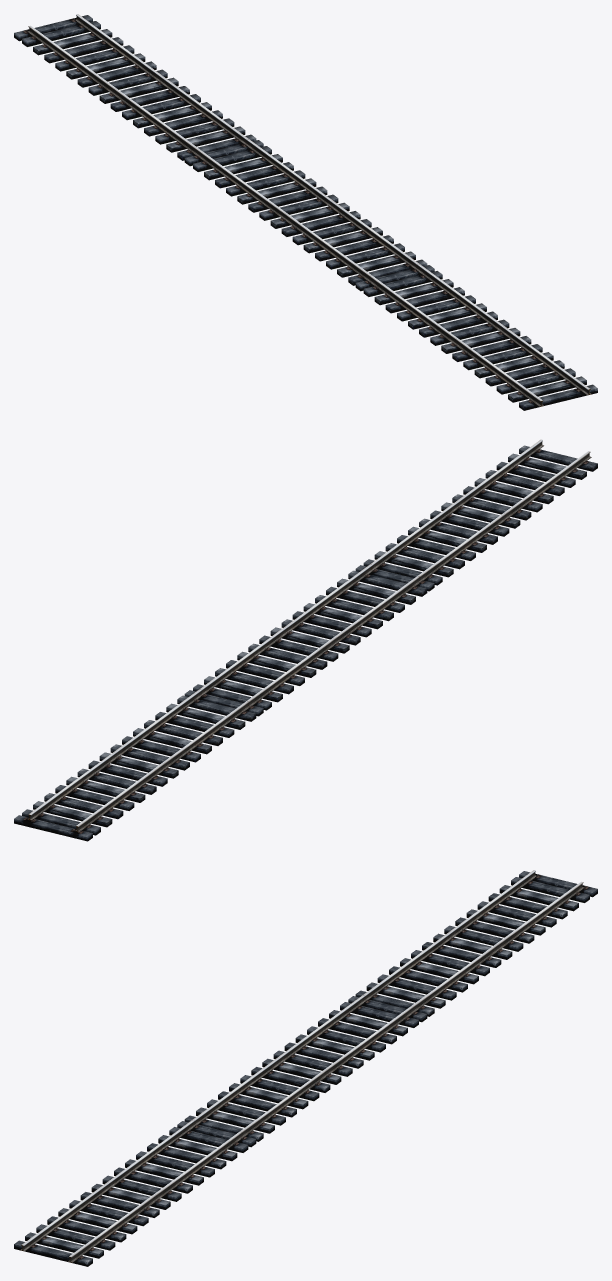
Rendered from rail.gltf.
The picture shows the model from 3 angles, top to bottom: view 1: azimuth 30°, elevation 25°; view 2: azimuth 150°, elevation 25°; view 3: azimuth 330°, elevation 25°; orthographic projection.
Parts seen in each view (by area): view 1: Asset3DLoader.sceneRoot; view 2: Asset3DLoader.sceneRoot; view 3: Asset3DLoader.sceneRoot.
Boxes of the visible parts, x1,y1,x2,y2 form: Asset3DLoader.sceneRoot: (14, 14, 597, 410); Asset3DLoader.sceneRoot: (14, 439, 597, 841); Asset3DLoader.sceneRoot: (14, 870, 597, 1266).
Size of the model in its own units: 2500 by 330 by 30151.
3 materials, 3 textured.
